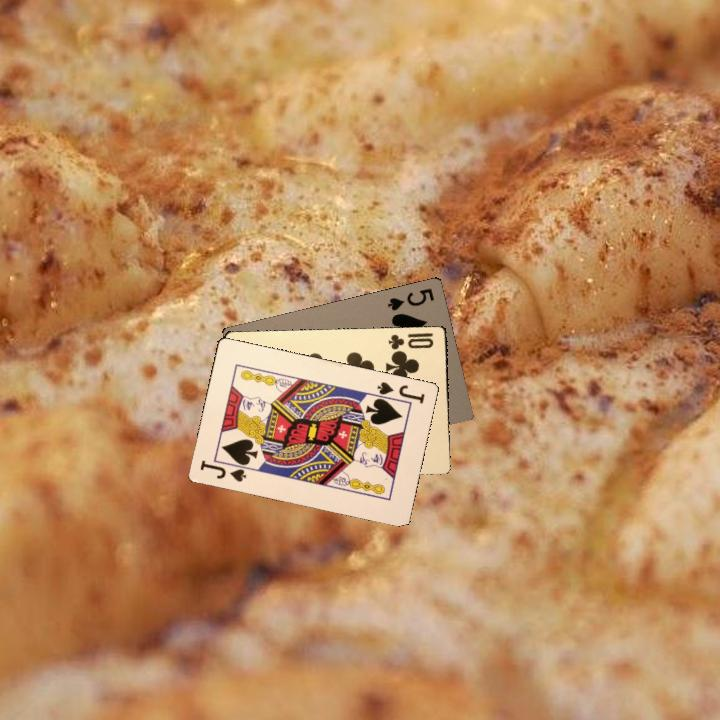10c: (384, 329, 435, 352)
5s: (384, 284, 436, 313)
Js: (372, 377, 427, 408), (196, 455, 253, 484)
